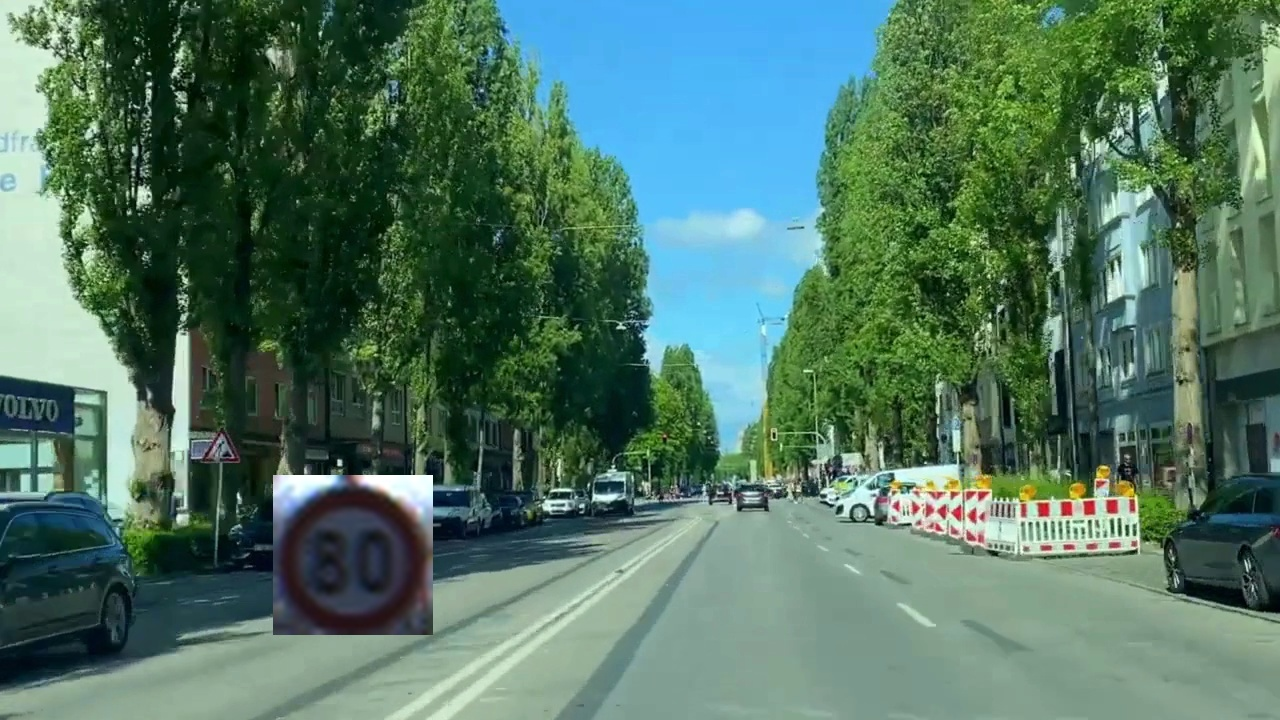Speed 80: (273, 475, 433, 635)
